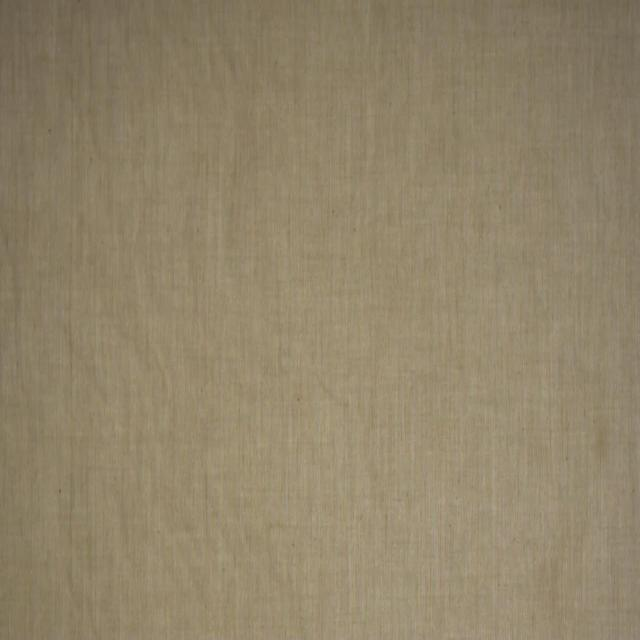dirty: (596, 424, 604, 457)
